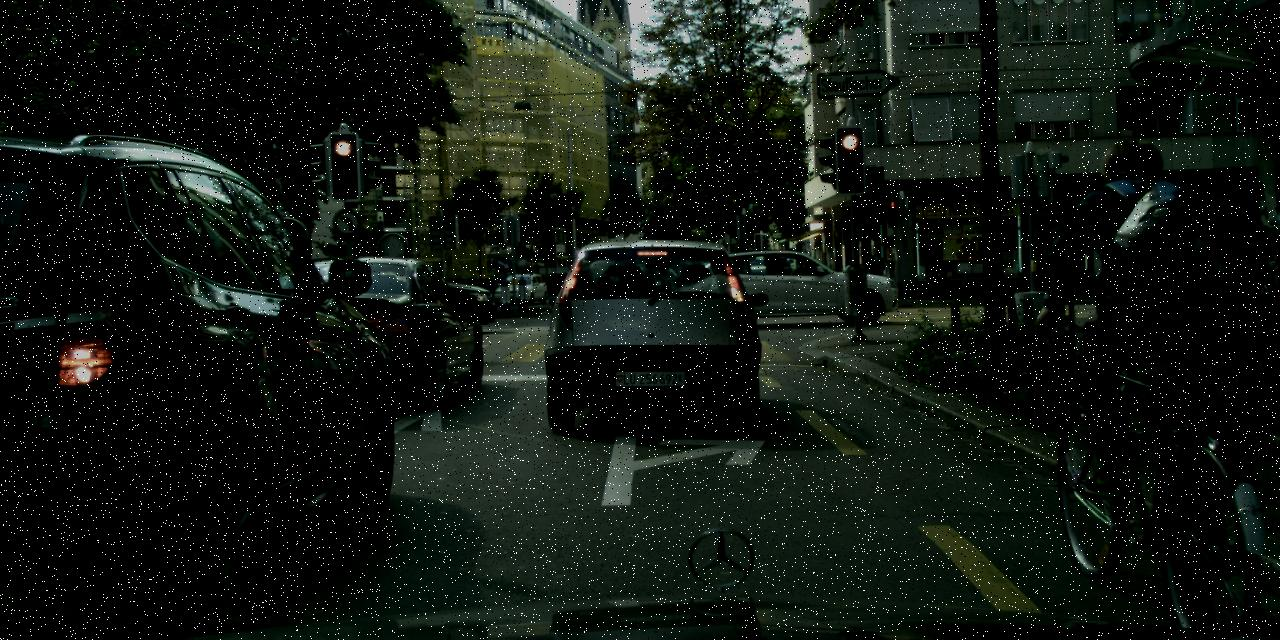ped: (1062, 139, 1226, 539), (866, 248, 886, 298)
